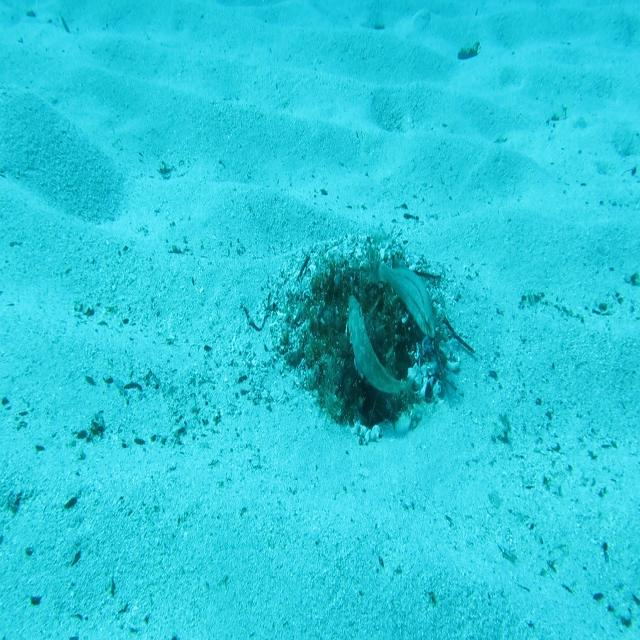DAN_CIRC: (346, 290, 421, 400)
core_nest: (336, 275, 382, 324)
female: (369, 246, 438, 342)
nest: (253, 211, 468, 465)
vegetation: (457, 40, 480, 61)
